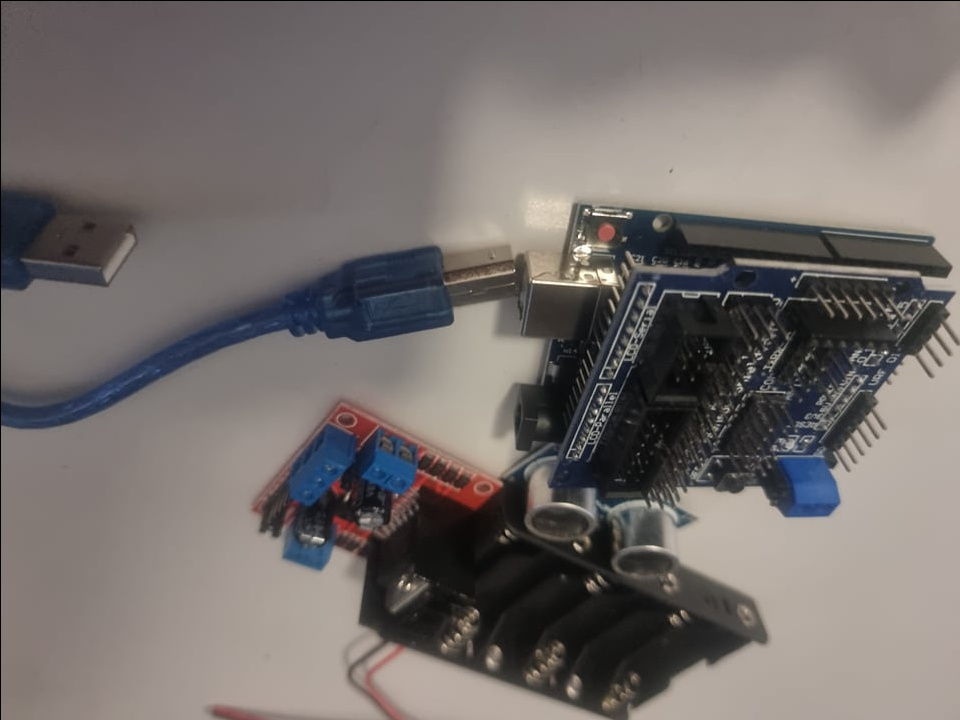5V EXPANSION: (567, 264, 954, 518)
BATTERY BOX: (356, 514, 772, 716)
MOTOR: (244, 399, 493, 632)
SENSOR: (507, 448, 701, 581)
UNO R3: (510, 184, 617, 443)
